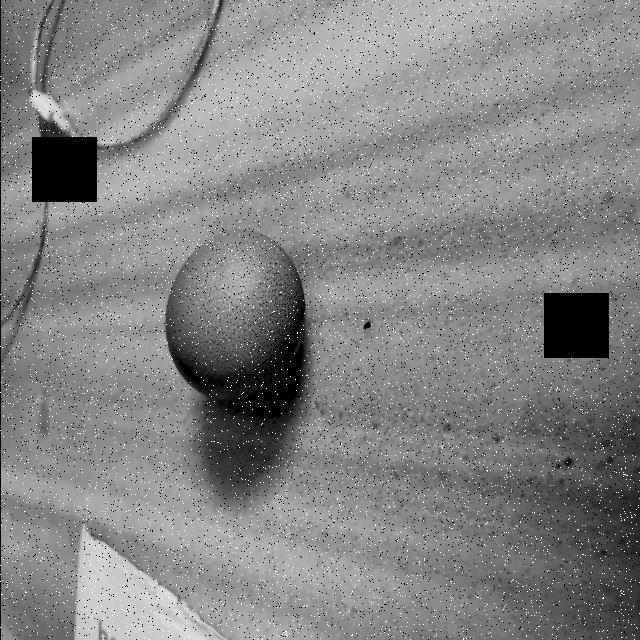egg: (162, 222, 308, 410)
